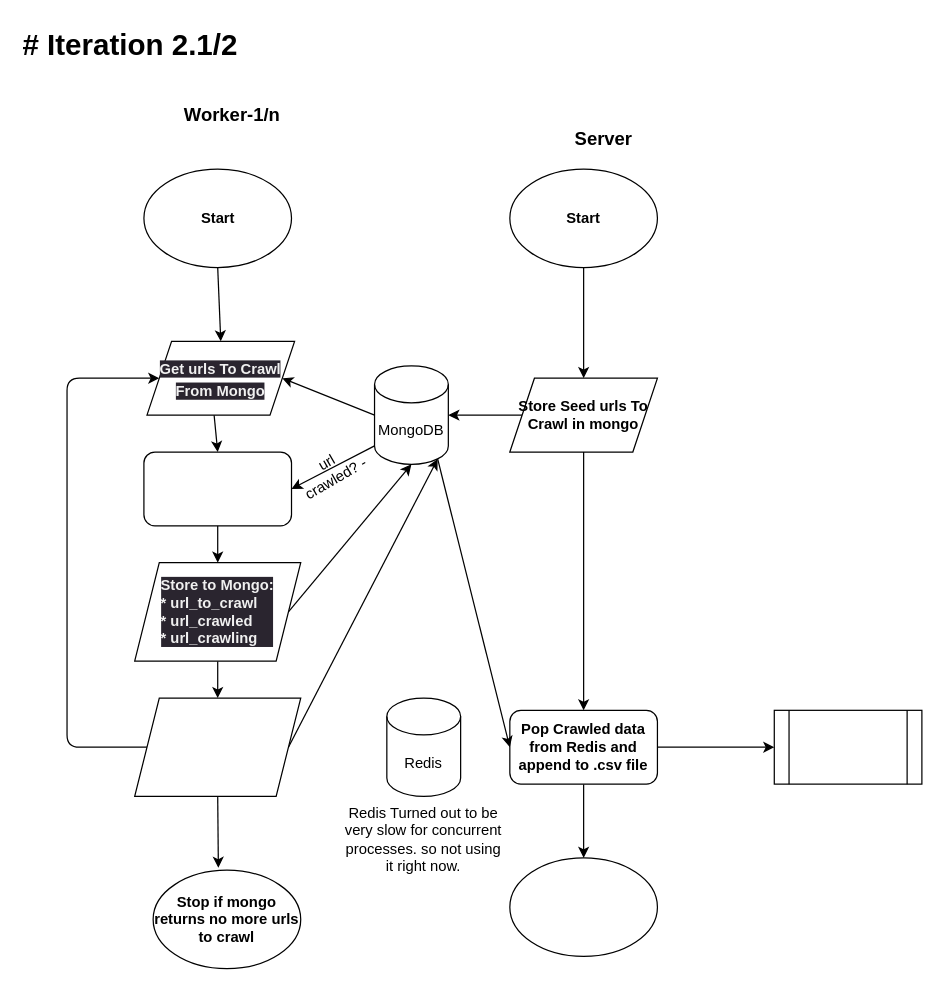
Some shapes in this 943 by 990 pixel diagram are drawn without their labels. Here are the shapes that lost their labels. From the top down, the centre of each, then its label:
[217,488]: Crawl if url not already Crawled
[217,746]: Store Crawled Paragraphs (Data) to Redis:
[847,746]: CSV File * Append
[583,906]: Stop
